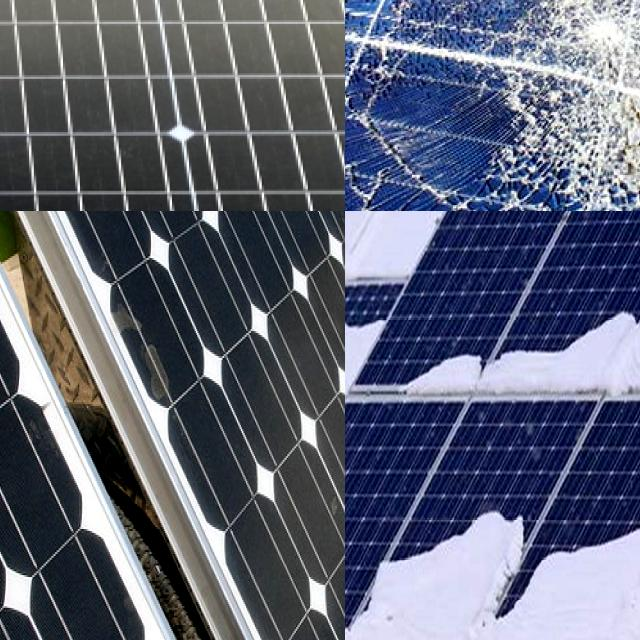crack: (0, 211, 345, 640), (28, 211, 345, 640), (0, 0, 345, 211)
hotspot: (522, 0, 640, 205), (345, 0, 498, 117), (351, 87, 495, 211)
panel: (487, 333, 625, 418), (485, 544, 596, 626), (444, 496, 532, 582), (373, 544, 446, 640), (386, 347, 480, 405), (568, 517, 640, 585), (345, 387, 413, 454), (595, 305, 640, 402), (345, 211, 405, 276), (345, 386, 413, 442), (365, 211, 462, 250), (345, 306, 393, 382), (345, 566, 394, 640), (345, 211, 385, 267), (345, 211, 377, 281), (345, 213, 381, 274), (345, 312, 378, 365), (345, 306, 372, 369), (345, 225, 375, 280), (345, 317, 384, 351), (345, 614, 357, 640)
